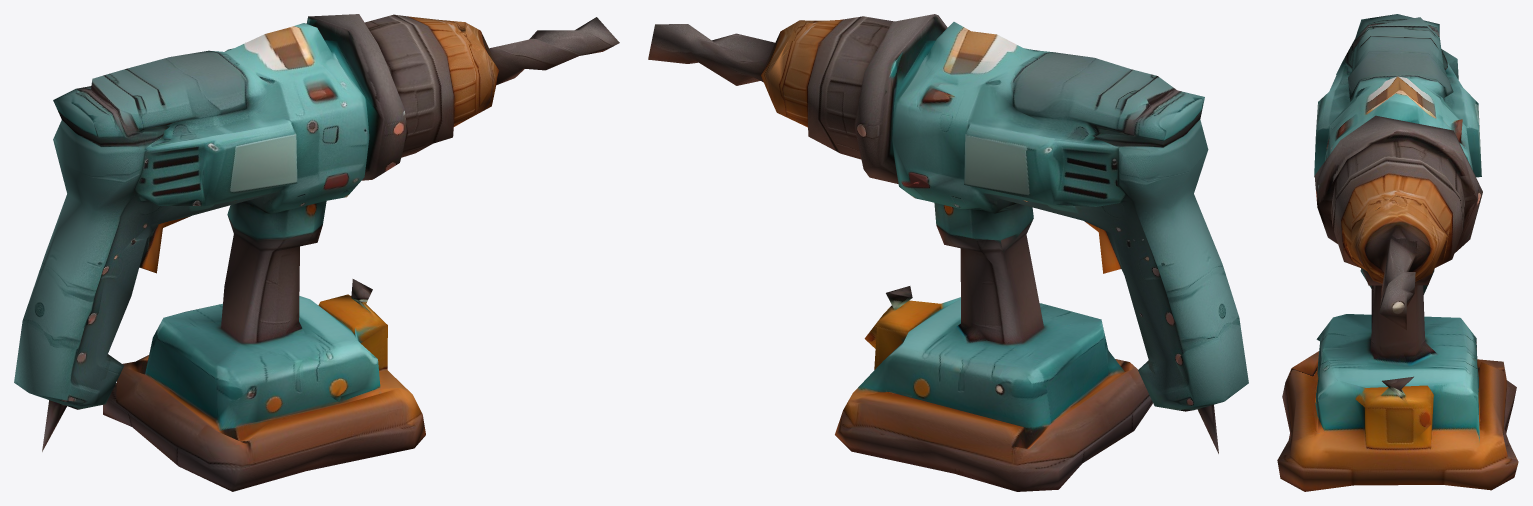
The model's file is weapon_drill_tertiary_1500_raw.glb.
3 renders of one model, left to right at view 1: azimuth 30°, elevation 25°; view 2: azimuth 150°, elevation 25°; view 3: azimuth 270°, elevation 25°, orthographic. The views are drawn at different scales.
Visible parts, largest first — view 1: tripo_node_445015b4-079b-4946-b45c-15001e7f35a0; view 2: tripo_node_445015b4-079b-4946-b45c-15001e7f35a0; view 3: tripo_node_445015b4-079b-4946-b45c-15001e7f35a0.
Part boxes in pixels (box(x1,y1,x2,y2)): tripo_node_445015b4-079b-4946-b45c-15001e7f35a0: box(14, 14, 619, 491); tripo_node_445015b4-079b-4946-b45c-15001e7f35a0: box(648, 14, 1248, 491); tripo_node_445015b4-079b-4946-b45c-15001e7f35a0: box(1277, 14, 1518, 491).
Bounding box in the file's own units: 0.9814 × 0.6244 × 0.3739.
Materials: 1 (1 with a texture image).
